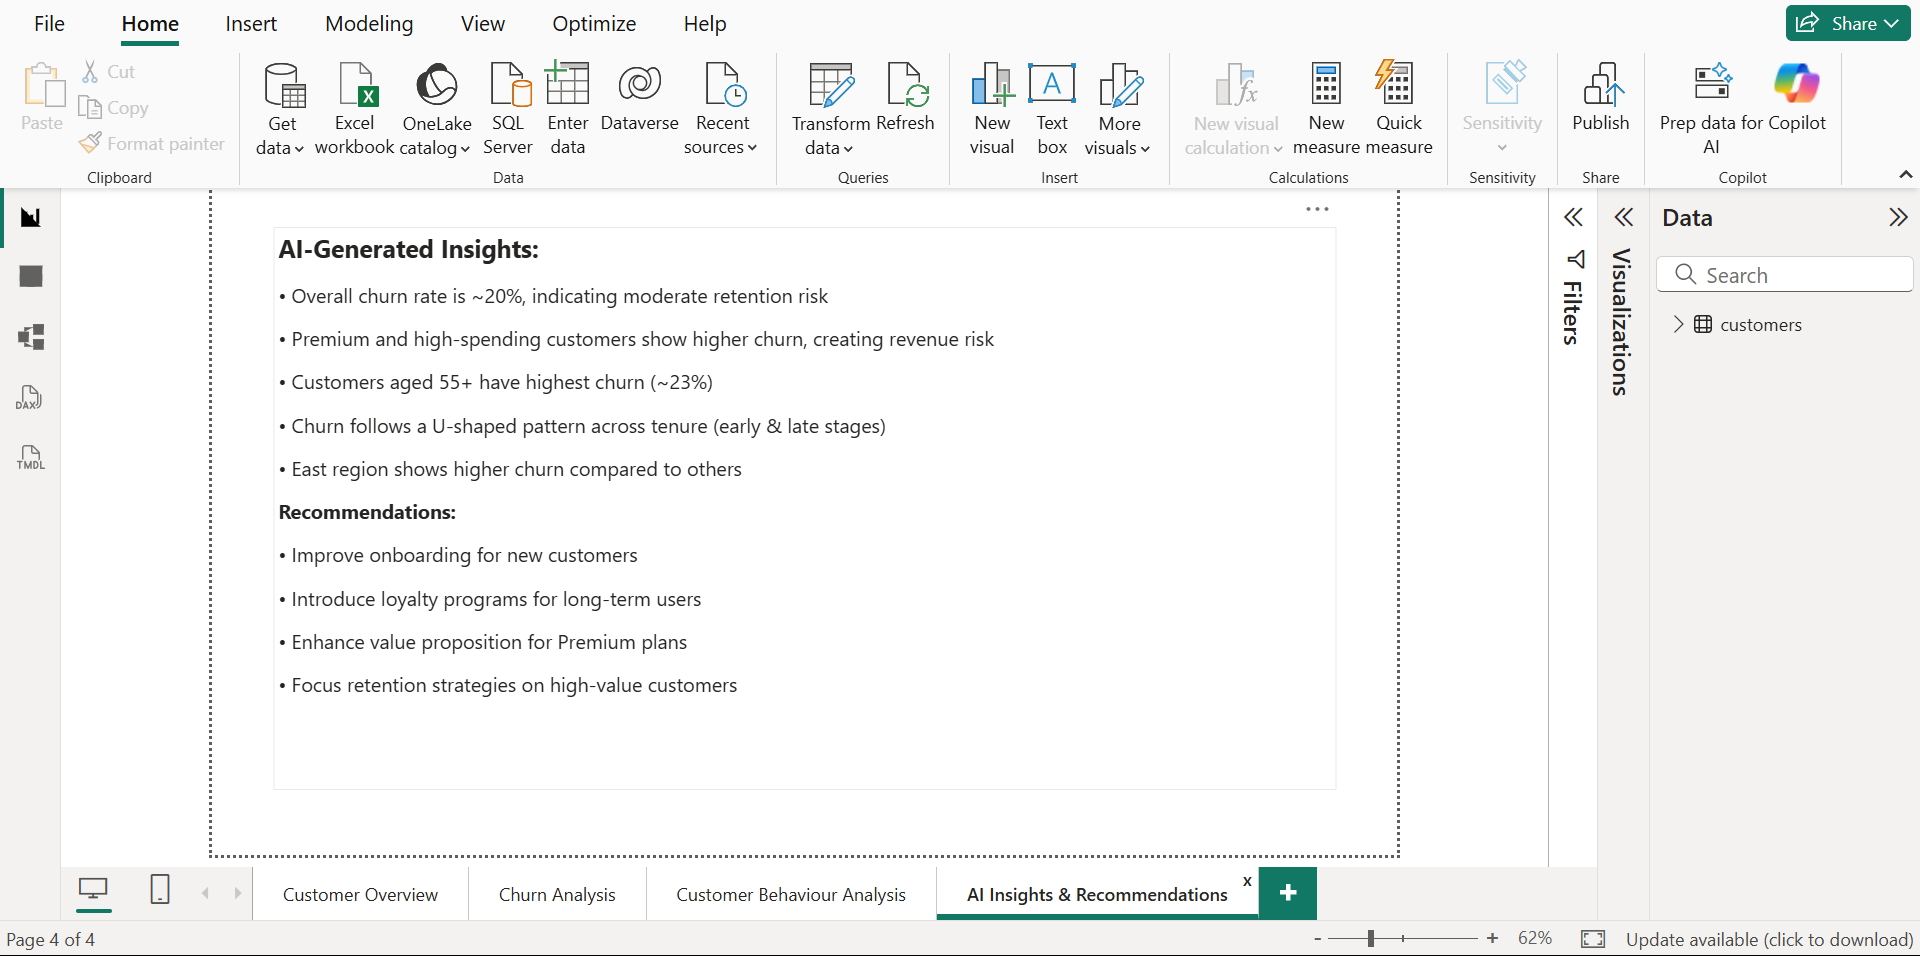

This screenshot's page, from the dashboard's own definition file:
{"tool":"powerbi","page":{"name":"AI Insights & Recommendations","canvas":[1280,720],"ordinal":3},"visuals":[{"type":"textbox","box":[66.4,42.1,1148,607.2],"z":0}]}

Visuals, with their boxes on the page's 1280x720 design canvas (x1, y1, x2, y2). These are canvas units, not pixel positions in the 1920x956 screenshot, which may show the page scaled, cropped or inside an application window:
textbox: (x1=66, y1=42, x2=1214, y2=649)
